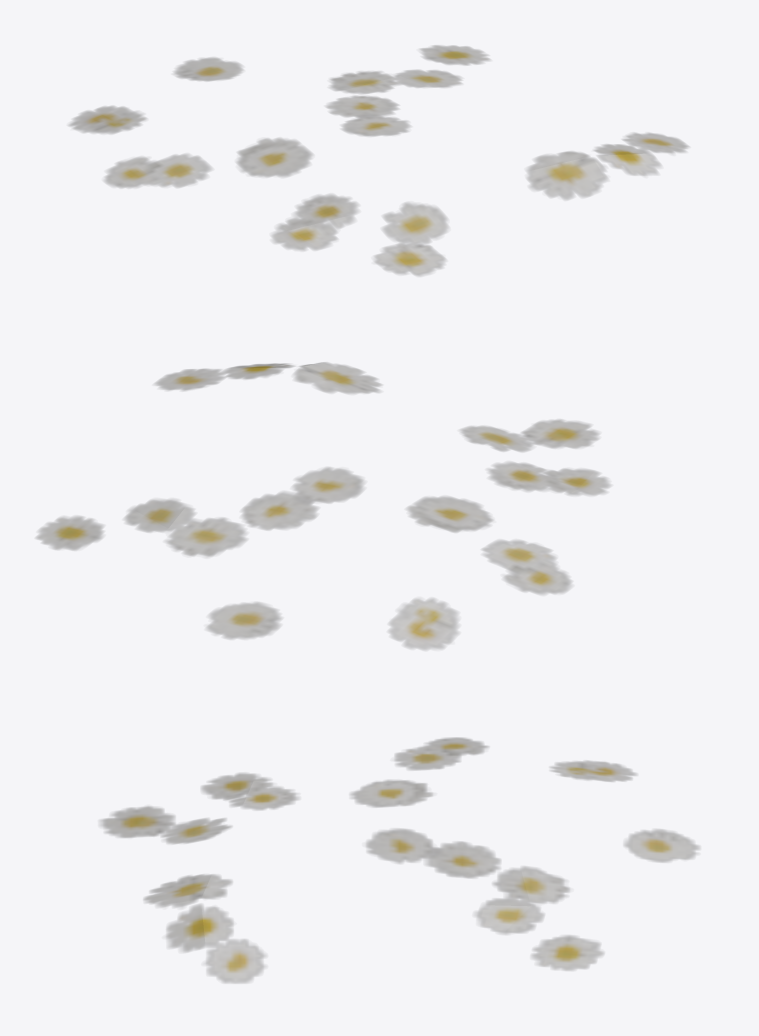
The model's file is sparsedaisy_lod1.glb.
3 views of the same model, one above another, from view 1: azimuth 30°, elevation 25°; view 2: azimuth 150°, elevation 25°; view 3: azimuth 270°, elevation 25° (orthographic). The views are drawn at different scales.
Visible parts, largest first — view 1: Flowers-01; view 2: Flowers-01; view 3: Flowers-01.
Part boxes in pixels (x1,y1,x2,y2): Flowers-01: (68,45,688,276); Flowers-01: (36,362,610,650); Flowers-01: (100,737,699,983).
Size of the model in its own units: 1.61 by 0.0962 by 1.61.
1 material, 1 textured.
